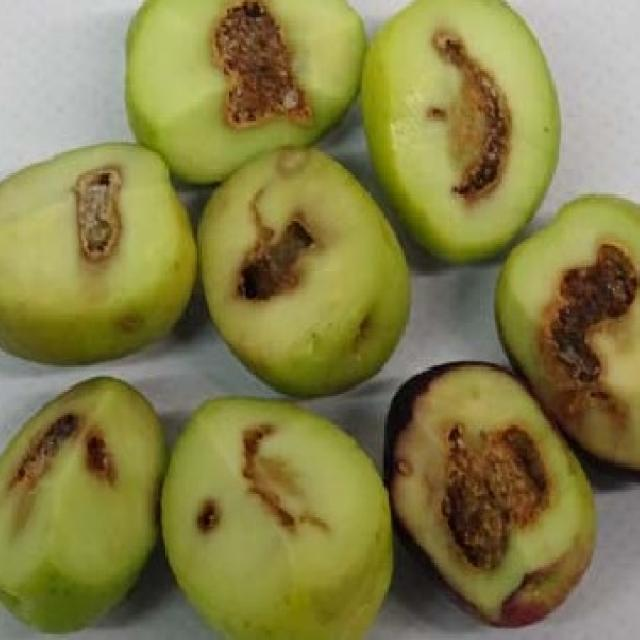Olive Fruit Fly: (384, 361, 595, 625), (162, 400, 392, 638), (360, 0, 557, 261), (199, 150, 408, 394), (126, 0, 364, 183), (2, 142, 195, 363), (0, 377, 165, 630), (495, 194, 638, 469)
